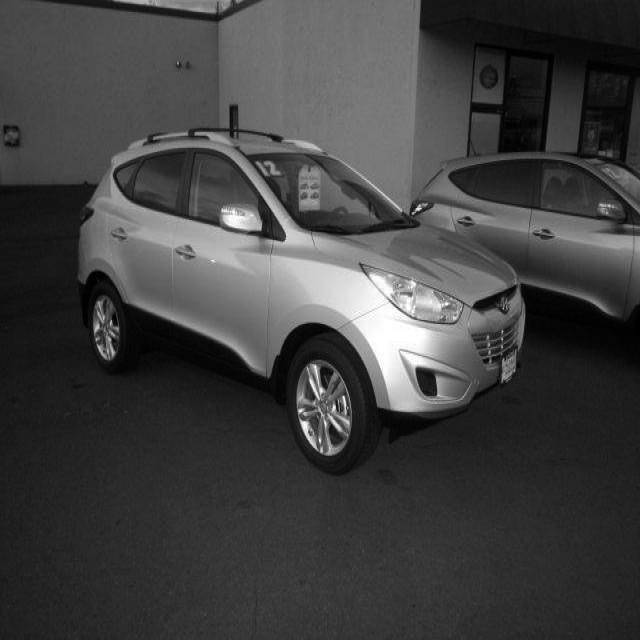car: (76, 125, 526, 475), (408, 149, 639, 335)
